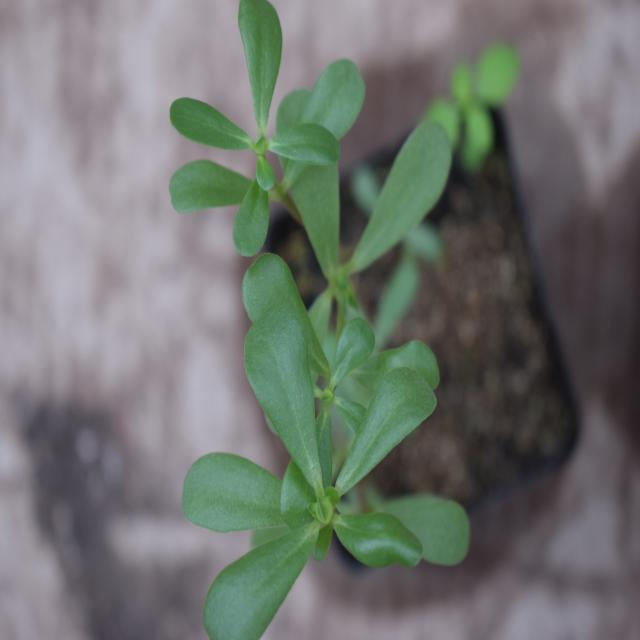purslane: (171, 4, 508, 626)
